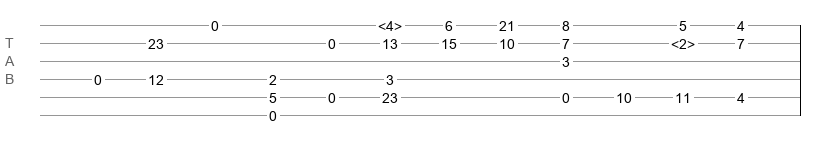0: (94, 72, 102, 82), (211, 18, 219, 28), (269, 108, 277, 118), (328, 36, 336, 46), (328, 90, 336, 100), (562, 90, 570, 100)
10: (499, 36, 515, 46), (616, 90, 632, 100)
11: (675, 90, 691, 100)
12: (148, 72, 164, 82)
13: (382, 36, 398, 46)
15: (441, 36, 457, 46)
2: (269, 72, 277, 82)
21: (499, 18, 515, 28)
23: (148, 36, 164, 46), (382, 90, 398, 100)
3: (386, 72, 394, 82), (562, 54, 570, 64)
4: (737, 90, 745, 100), (737, 18, 745, 28)
5: (269, 90, 277, 100), (679, 18, 687, 28)
6: (445, 18, 453, 28)
7: (562, 36, 570, 46), (737, 36, 745, 46)
8: (562, 18, 570, 28)
harmonic: (378, 18, 402, 28), (671, 36, 695, 46)
